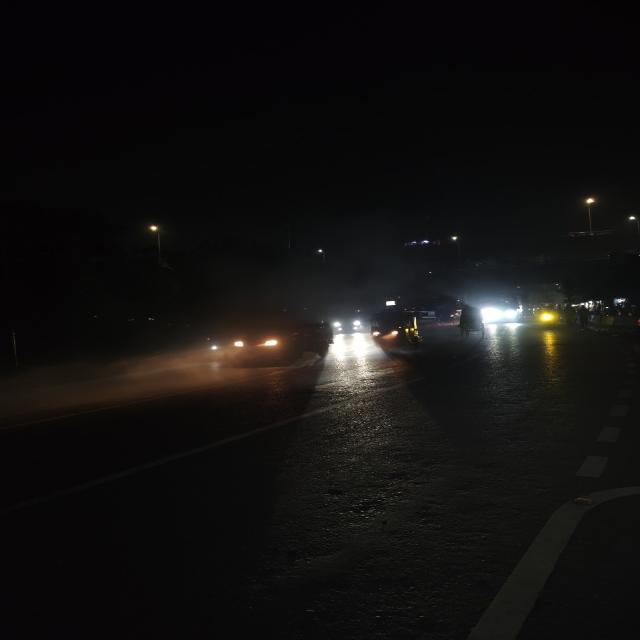bus: (493, 292, 524, 324)
cng: (364, 309, 424, 350)
pedestrian: (559, 304, 577, 328), (576, 306, 590, 329)
pickup_van: (223, 306, 338, 369)
rickshaw: (455, 303, 493, 340)
